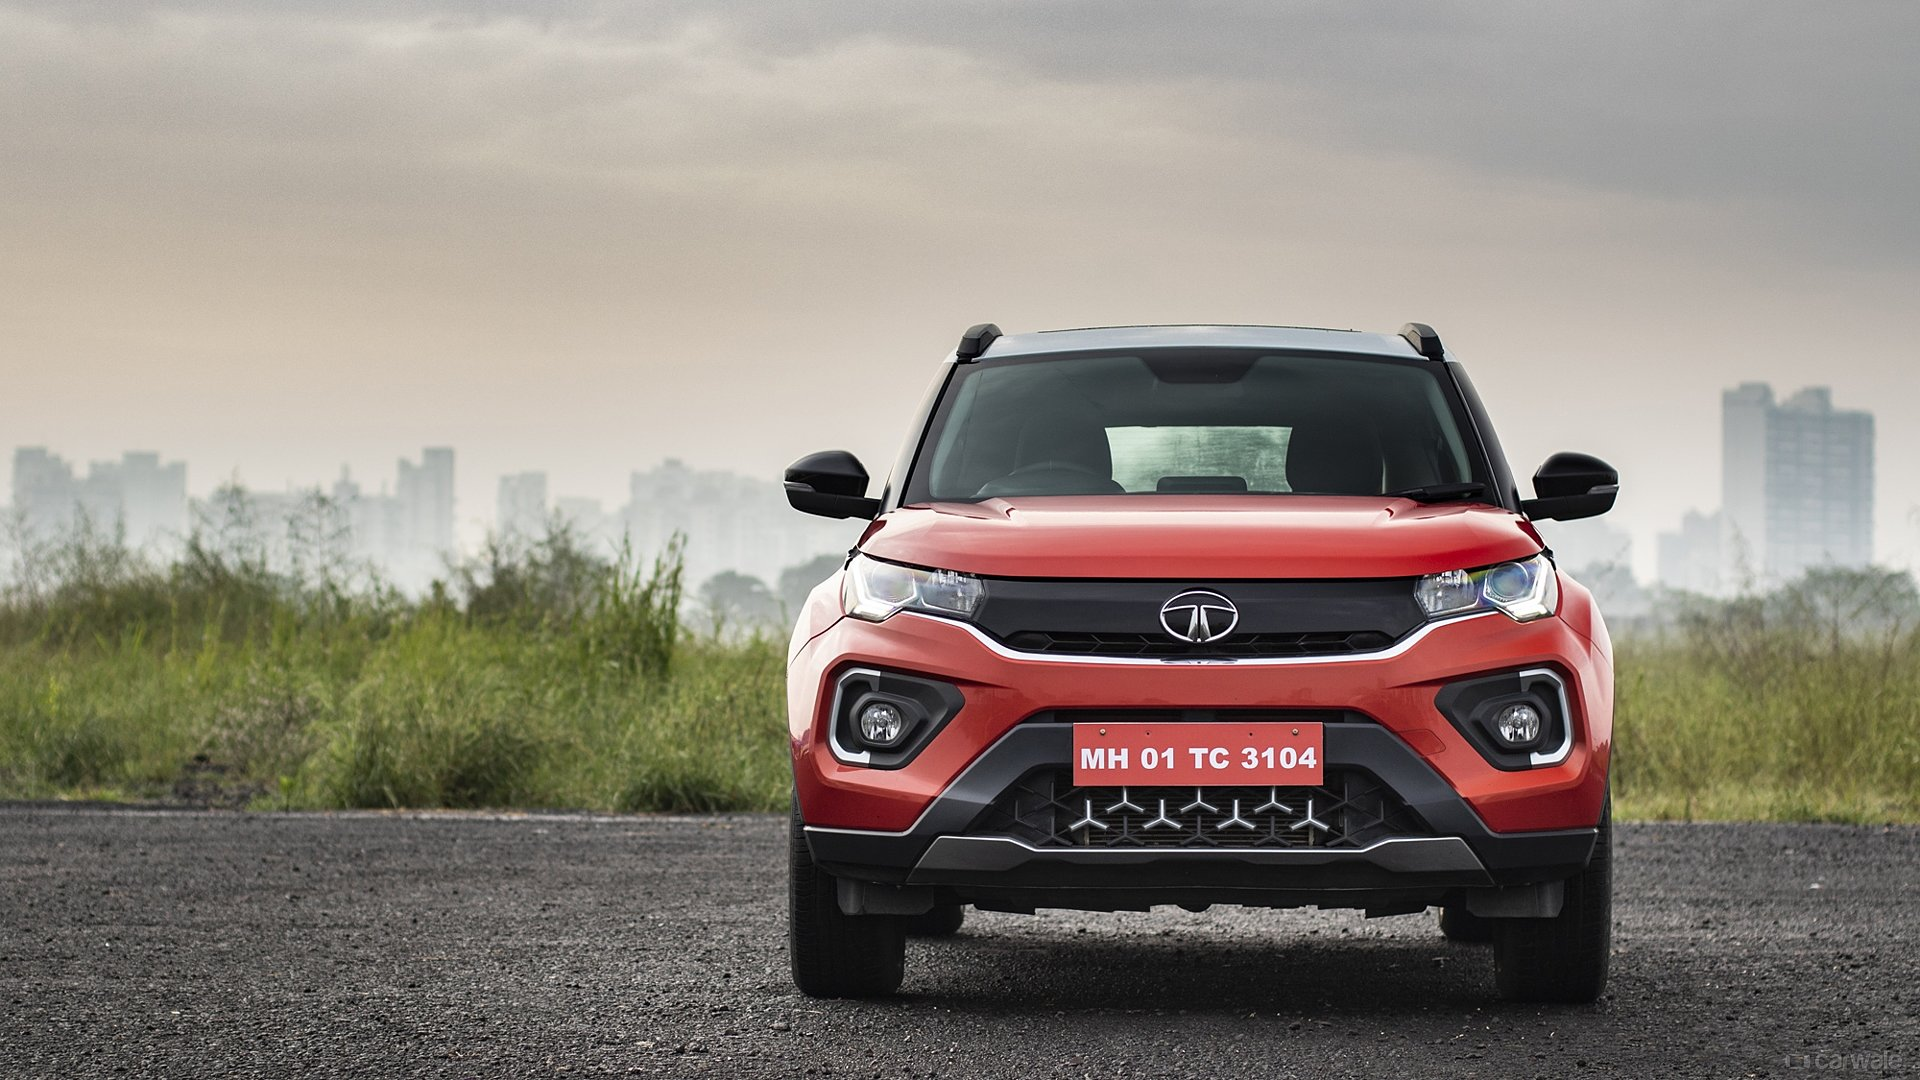car: (787, 316, 1626, 1004)
